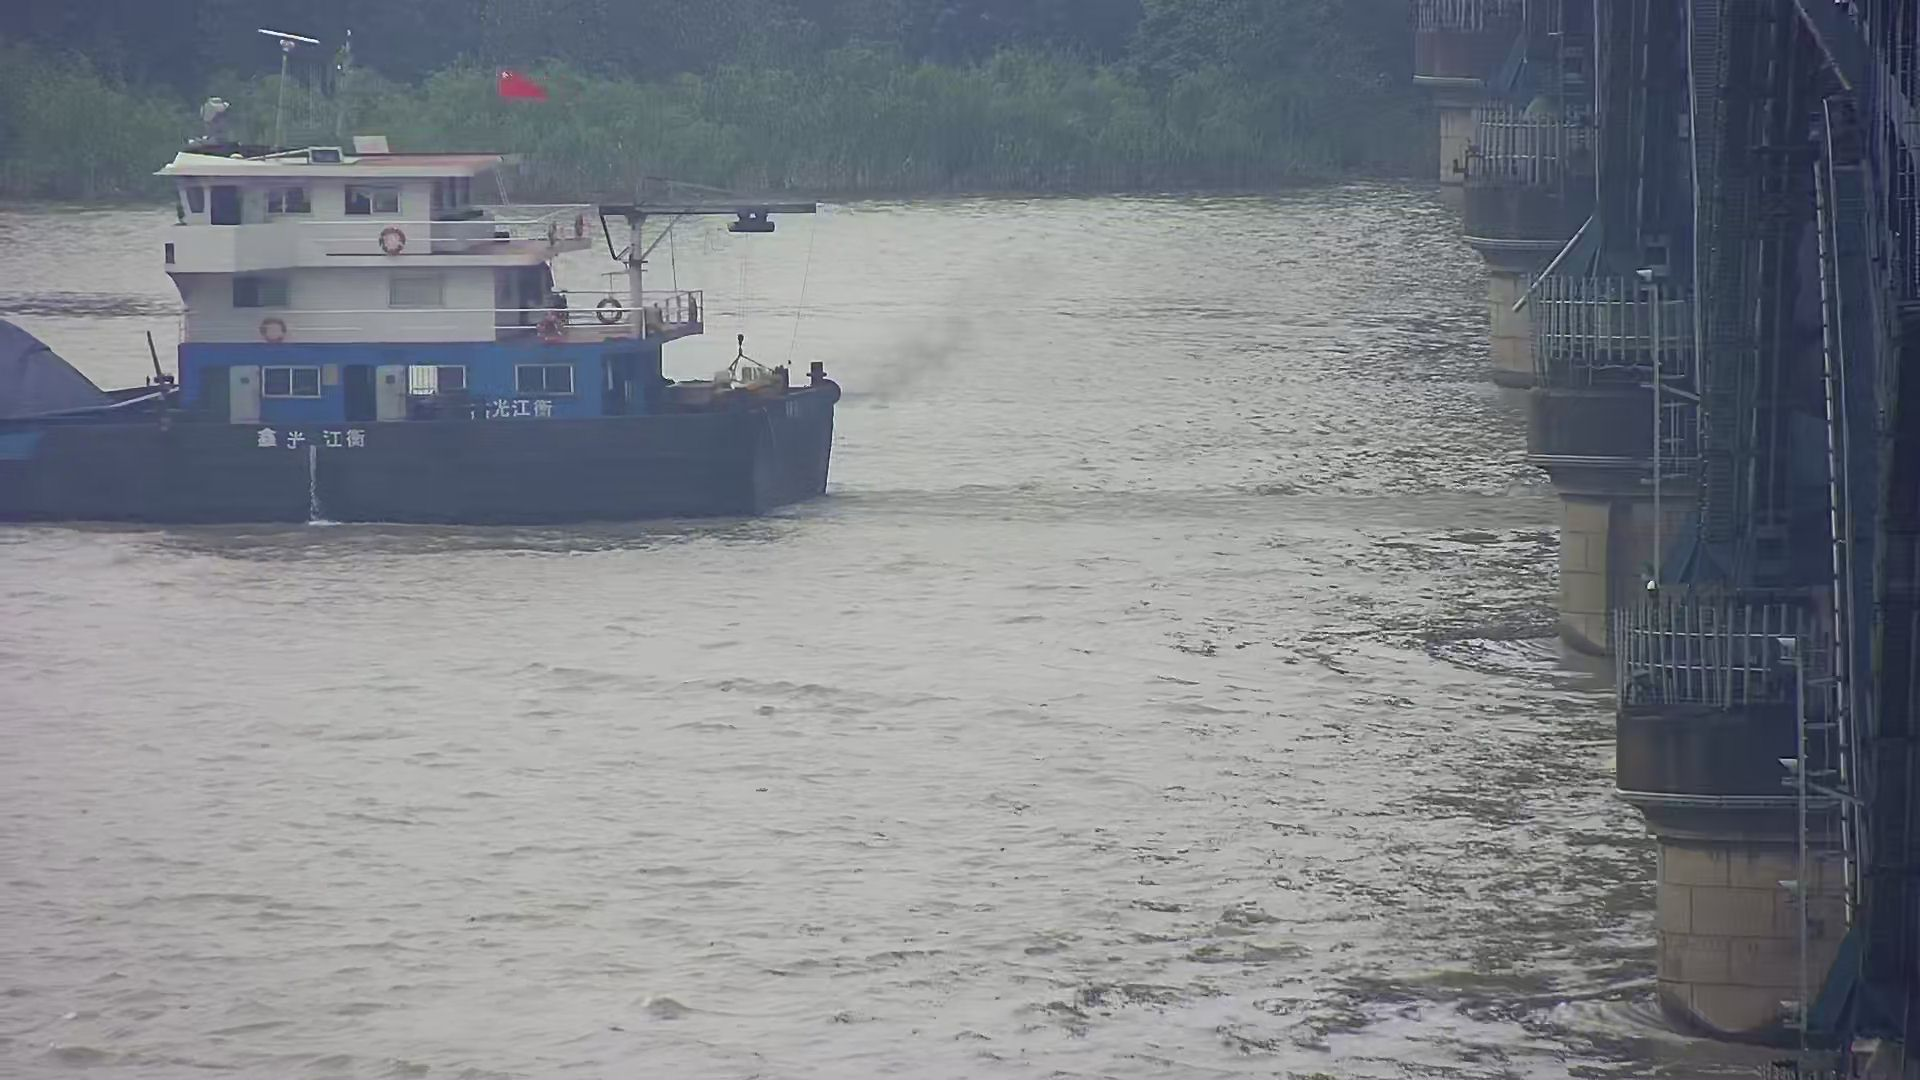bridge: (1377, 1, 1913, 1069)
ship: (1, 25, 870, 560)
